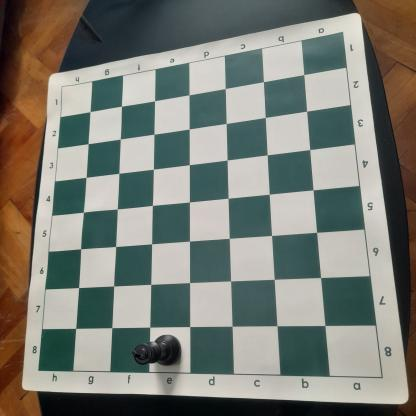black-king: (130, 332, 183, 369)
